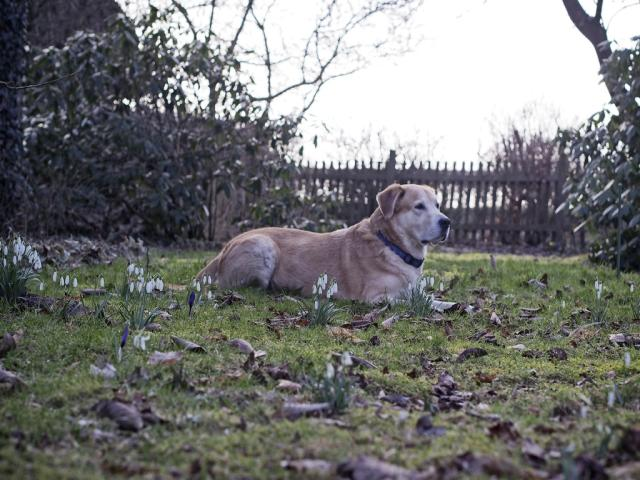Dog: (161, 182, 453, 315)
